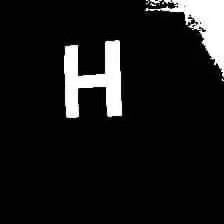LTR_H: (56, 37, 129, 121)
